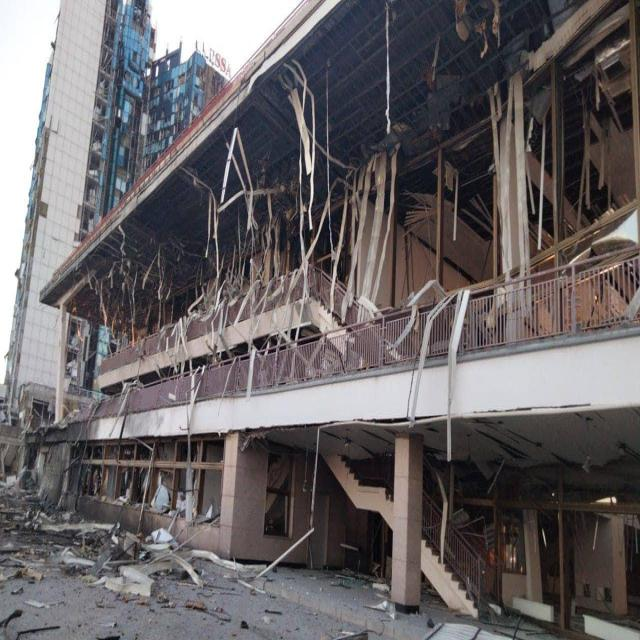broken_window: (262, 449, 294, 539)
building: (13, 1, 638, 634)
